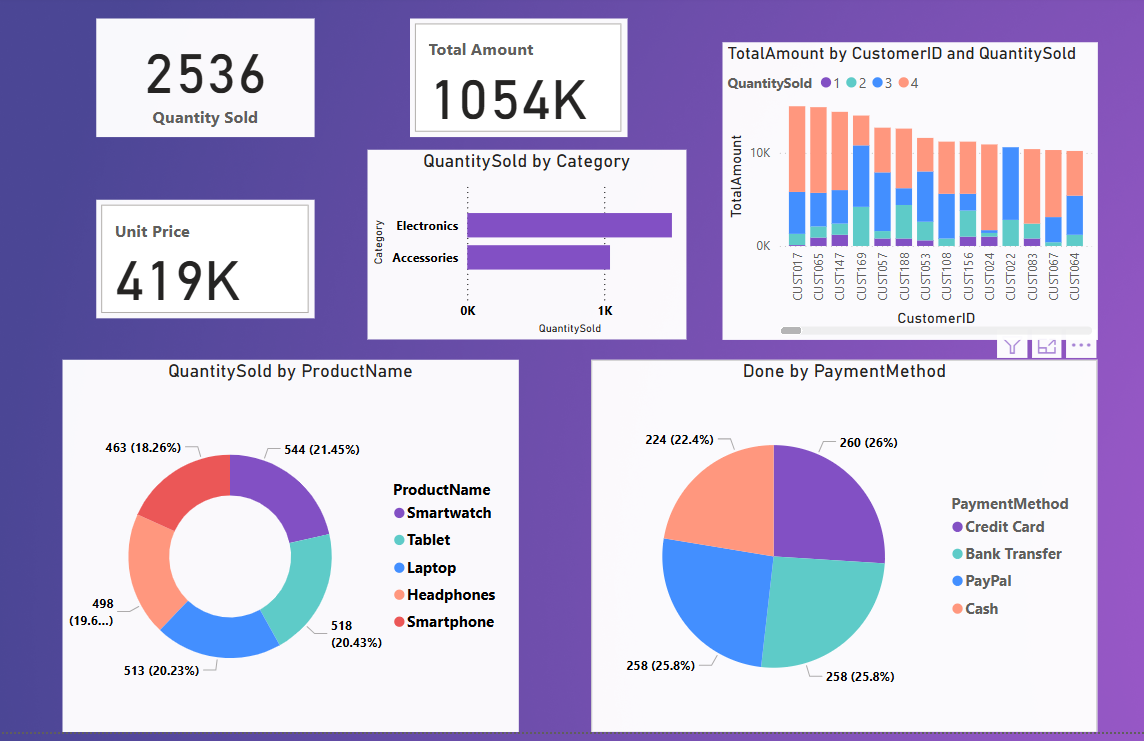

The page's visual inventory and layout, read from the dashboard file:
{"tool":"powerbi","page":{"name":"Page 1","canvas":[1280,720],"ordinal":0},"visuals":[{"type":"donutChart","fields":{"Y":["Sum(sales_data_dataset.QuantitySold)"],"Category":["sales_data_dataset.ProductName"]},"box":[154.1,355.8,446.3,364.4],"z":0},{"type":"card","fields":{"Values":["Sum(sales_data_dataset.QuantitySold)"]},"box":[187.1,22,214,116.2],"z":1000},{"type":"pieChart","fields":{"Category":["sales_data_dataset.PaymentMethod"],"Y":["CountNonNull(sales_data_dataset.PaymentMethod)"]},"box":[671.3,355.8,495.2,364.4],"z":2000},{"type":"cardVisual","fields":{"Data":["Sum(sales_data_dataset.TotalAmount)"]},"box":[494,22,212.8,116.2],"z":3000},{"type":"cardVisual","fields":{"Data":["Sum(sales_data_dataset.UnitPrice)"]},"box":[187.1,199.3,214,116.2],"z":4000},{"type":"barChart","fields":{"Category":["sales_data_dataset.Category"],"Y":["Sum(sales_data_dataset.QuantitySold)"]},"box":[452.4,150.4,311.8,185.9],"z":4001},{"type":"columnChart","fields":{"Category":["sales_data_dataset.CustomerID"],"Y":["Sum(sales_data_dataset.TotalAmount)"],"Series":["sales_data_dataset.QuantitySold"]},"box":[799.7,45.2,366.8,291],"z":4002}]}

Visuals, with their boxes on the page's 1280x720 design canvas (x1, y1, x2, y2). These are canvas units, not pixel positions in the 1144x741 screenshot, which may show the page scaled, cropped or inside an application window:
donutChart - Sum(sales_data_dataset.QuantitySold) x sales_data_dataset.ProductName: 154 356 600 720
card - Sum(sales_data_dataset.QuantitySold): 187 22 401 138
pieChart - sales_data_dataset.PaymentMethod x CountNonNull(sales_data_dataset.PaymentMethod): 671 356 1166 720
cardVisual - Sum(sales_data_dataset.TotalAmount): 494 22 707 138
cardVisual - Sum(sales_data_dataset.UnitPrice): 187 199 401 316
barChart - sales_data_dataset.Category x Sum(sales_data_dataset.QuantitySold): 452 150 764 336
columnChart - sales_data_dataset.CustomerID x Sum(sales_data_dataset.TotalAmount): 800 45 1166 336
